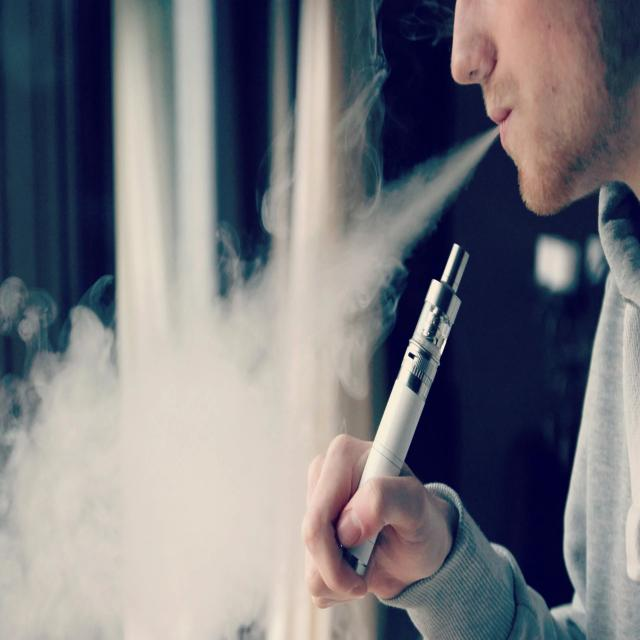smoke: (336, 238, 476, 579)
